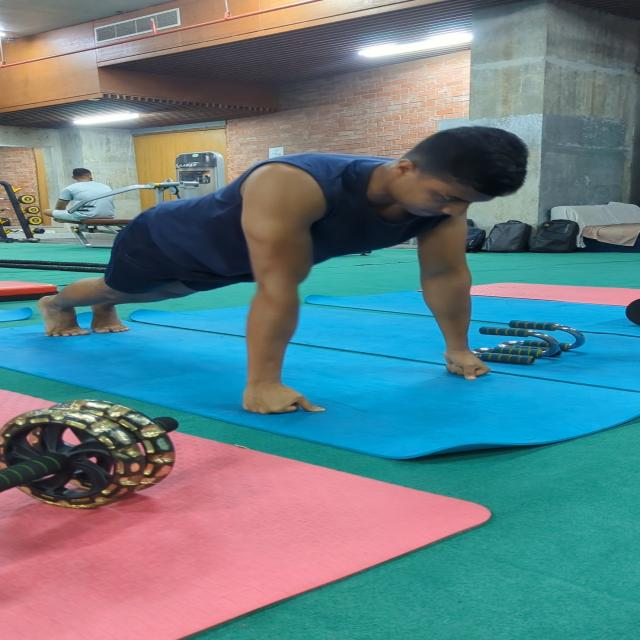Normal_PushUps: (36, 121, 539, 416)
